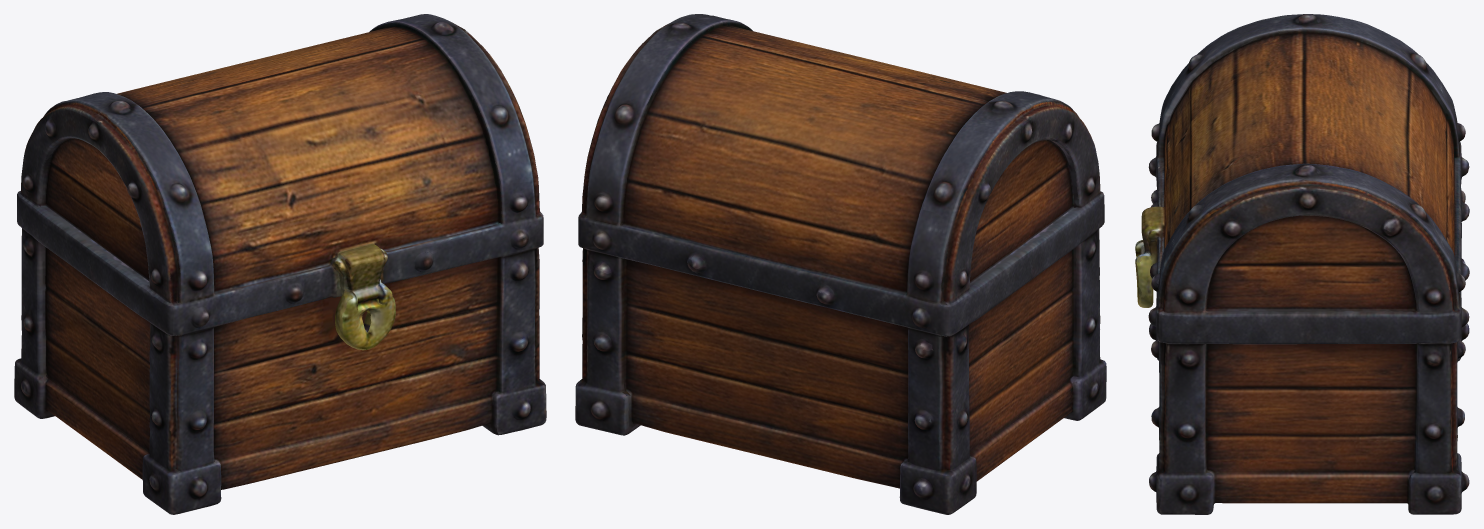
Rendered from chest.glb.
The picture shows the model from 3 angles, left to right: view 1: azimuth 30°, elevation 25°; view 2: azimuth 150°, elevation 25°; view 3: azimuth 270°, elevation 25°; orthographic projection. The views are drawn at different scales.
Visible parts, largest first — view 1: chest_object_0; view 2: chest_object_0; view 3: chest_object_0.
Part boxes in pixels (left/top/right/bottom): chest_object_0: left=14, top=14, right=546, bottom=514; chest_object_0: left=575, top=14, right=1106, bottom=514; chest_object_0: left=1135, top=14, right=1469, bottom=514.
Bounding box in the file's own units: 0.8149 × 0.7135 × 0.642.
Materials: 1 (1 with a texture image).
